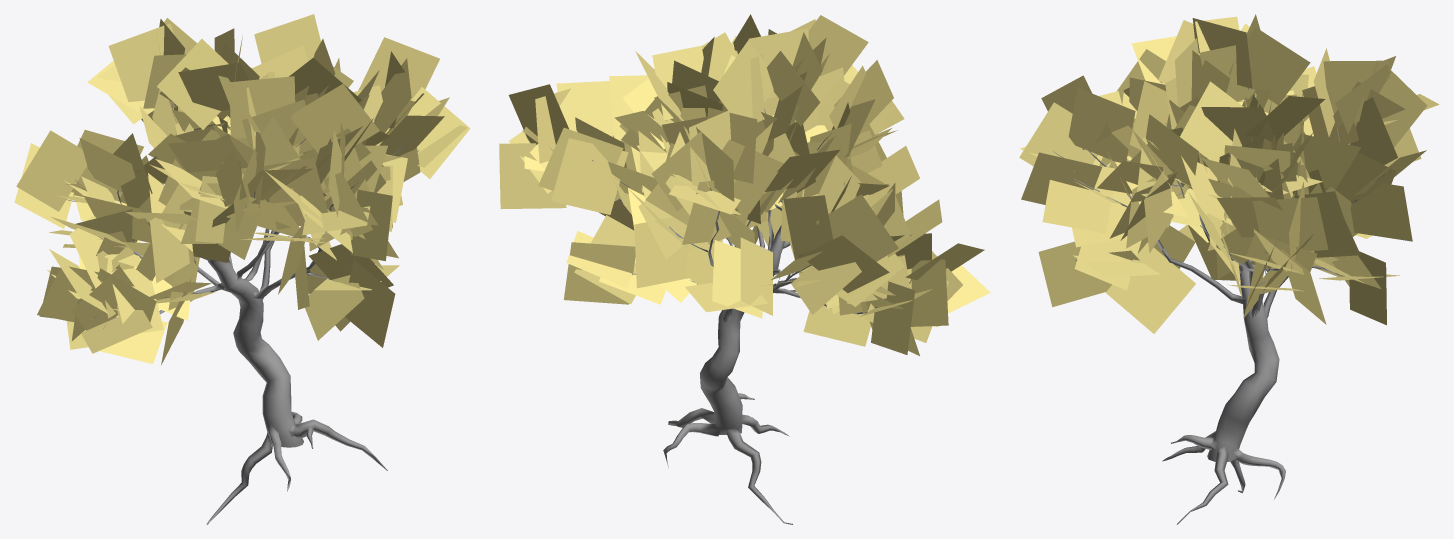
The model's file is tree_01_LOD2.FBX.
3 renders of one model, left to right at view 1: azimuth 30°, elevation 25°; view 2: azimuth 150°, elevation 25°; view 3: azimuth 270°, elevation 25°, orthographic.
Visible parts, largest first — view 1: Tree_01_LOD2; view 2: Tree_01_LOD2; view 3: Tree_01_LOD2.
Part boxes in pixels (<box>): Tree_01_LOD2: <box>14,14,470,524</box>; Tree_01_LOD2: <box>499,14,990,524</box>; Tree_01_LOD2: <box>1019,14,1439,524</box>.
Bounding box in the file's own units: 9.09 × 9.68 × 7.66.
